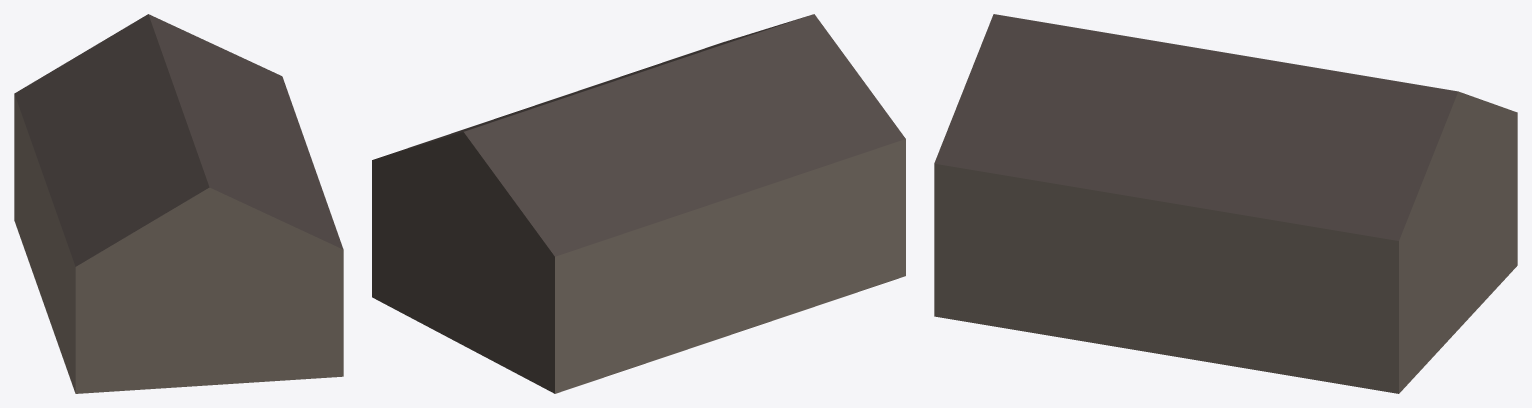
The picture shows the model from 3 angles, left to right: view 1: azimuth 30°, elevation 25°; view 2: azimuth 150°, elevation 25°; view 3: azimuth 270°, elevation 25°; orthographic projection. The views are drawn at different scales.
Parts seen in each view (by area): view 1: HP-w859488833; view 2: HP-w859488833; view 3: HP-w859488833.
Boxes of the visible parts, x1,y1,x2,y2 form: HP-w859488833: (14,14,343,393); HP-w859488833: (372,14,905,393); HP-w859488833: (934,14,1517,393).
Size of the model in its own units: 17.33 by 9.35 by 20.76.
